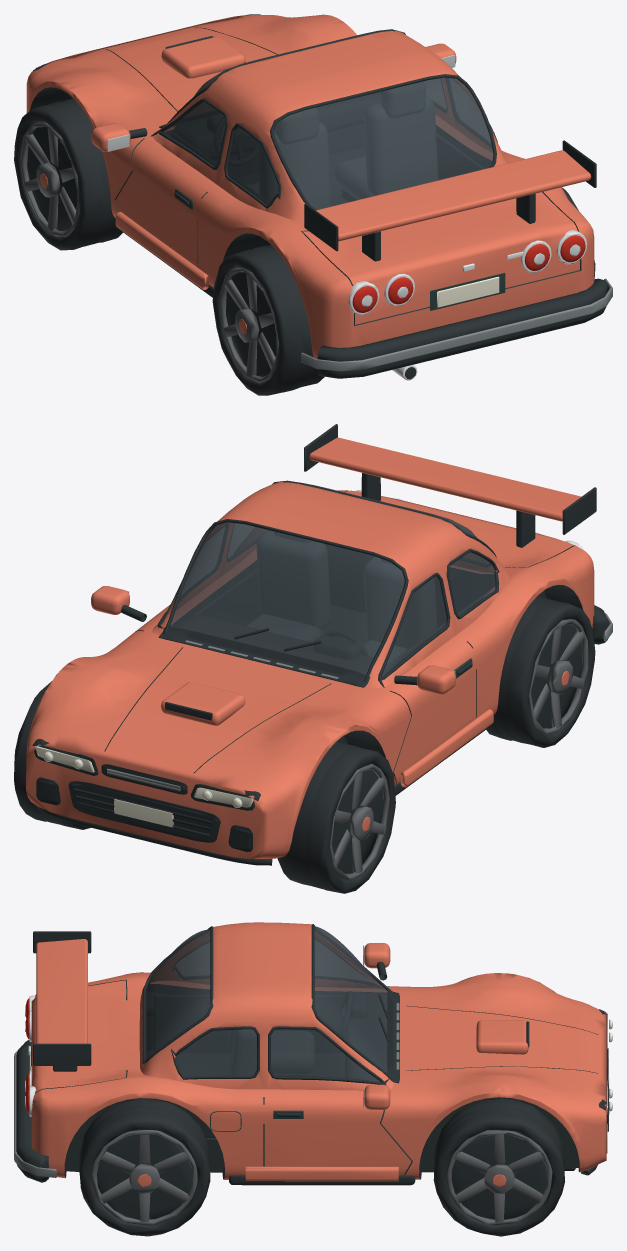
File: hayate_lod2.fbx
The picture shows the model from 3 angles, top to bottom: view 1: azimuth 30°, elevation 25°; view 2: azimuth 150°, elevation 25°; view 3: azimuth 270°, elevation 25°; orthographic projection. The views are drawn at different scales.
Visible parts, largest first — view 1: Body, Wheel_RL_Mesh, Wheel_FL_Mesh; view 2: Body, Wheel_FL_Mesh, Wheel_RL_Mesh, Wheel_FR_Mesh; view 3: Body, Wheel_RR_Mesh, Wheel_FR_Mesh, Wheel_RL_Mesh.
Part boxes in pixels (left/top/right/bottom): Body: left=26, top=14, right=612, bottom=380; Wheel_RL_Mesh: left=212, top=245, right=324, bottom=395; Wheel_FL_Mesh: left=14, top=98, right=122, bottom=250; Body: left=26, top=424, right=612, bottom=865; Wheel_FL_Mesh: left=277, top=741, right=395, bottom=893; Wheel_RL_Mesh: left=486, top=596, right=595, bottom=747; Wheel_FR_Mesh: left=14, top=681, right=90, bottom=829; Body: left=14, top=922, right=612, bottom=1185; Wheel_RR_Mesh: left=79, top=1098, right=210, bottom=1236; Wheel_FR_Mesh: left=433, top=1099, right=565, bottom=1236; Wheel_RL_Mesh: left=146, top=992, right=164, bottom=1050.
Bounding box in the file's own units: 239 × 154 × 392.
